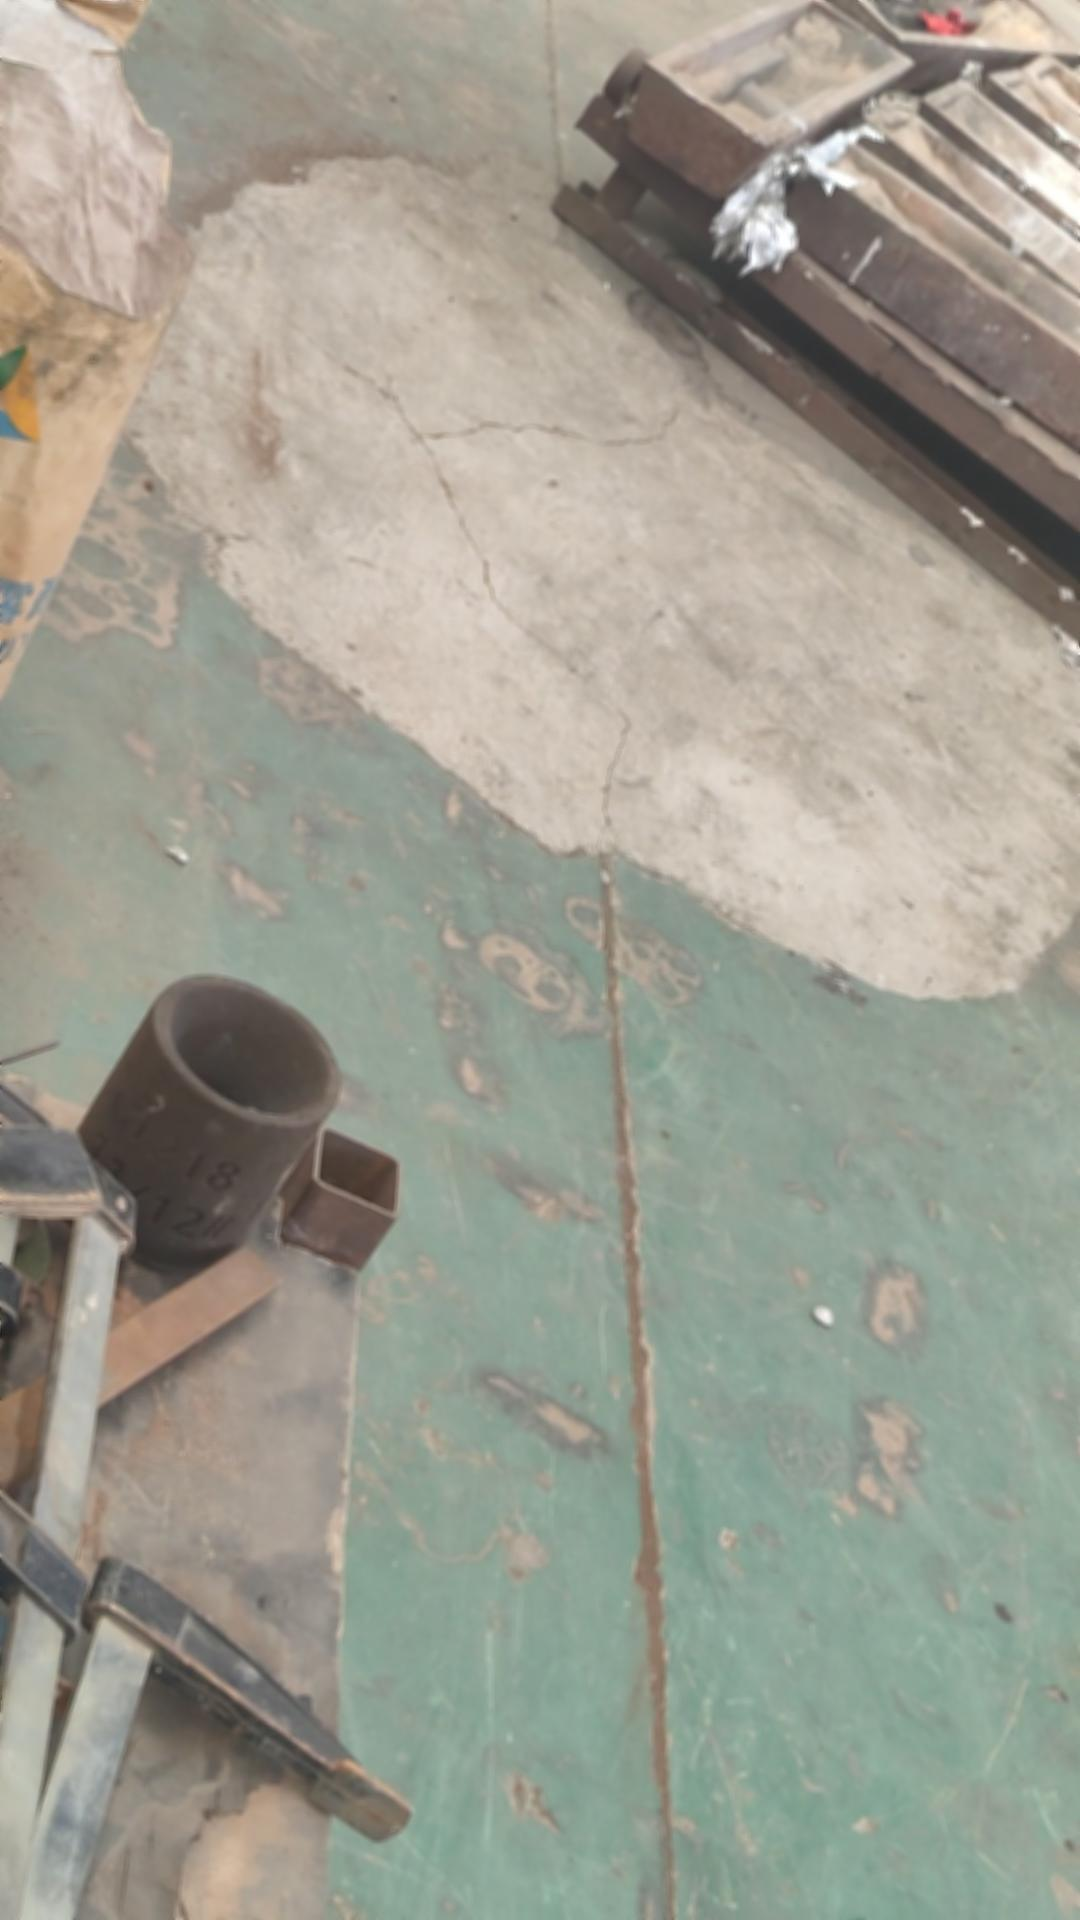pouring hole: (170, 981, 332, 1116)
